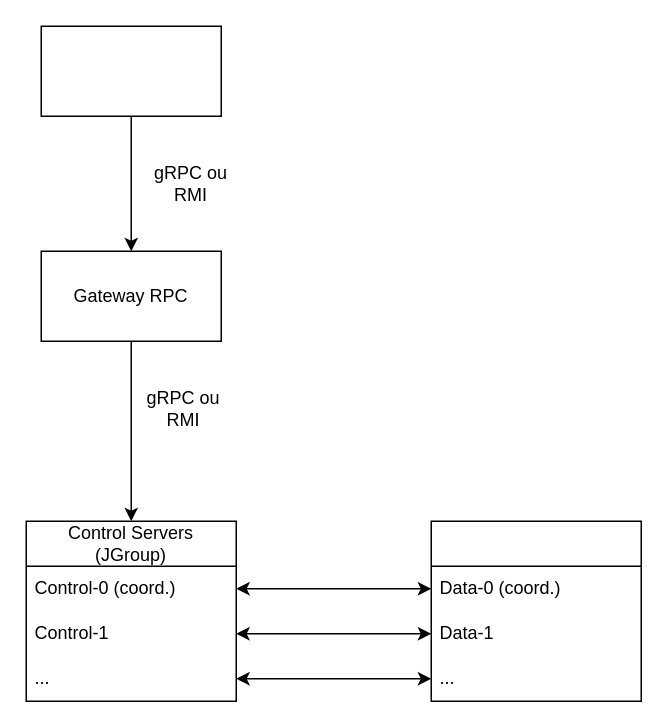
This 668x728 diagram has some shape labels left out. The shapes that lost their labels are listed below. From the top down, each one's box as (x1, y1, x2, y2) in pixels, then its label:
(40, 25, 221, 116): Cliente
(430, 520, 641, 701): Data Servers (JGroup)
